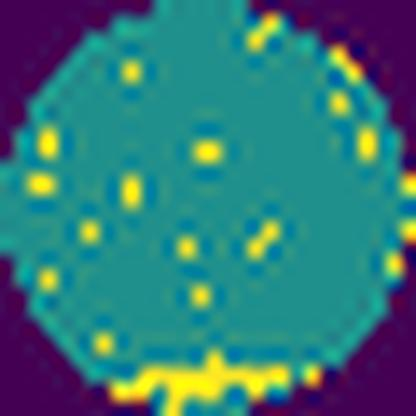Scratch: (108, 343, 296, 416)
